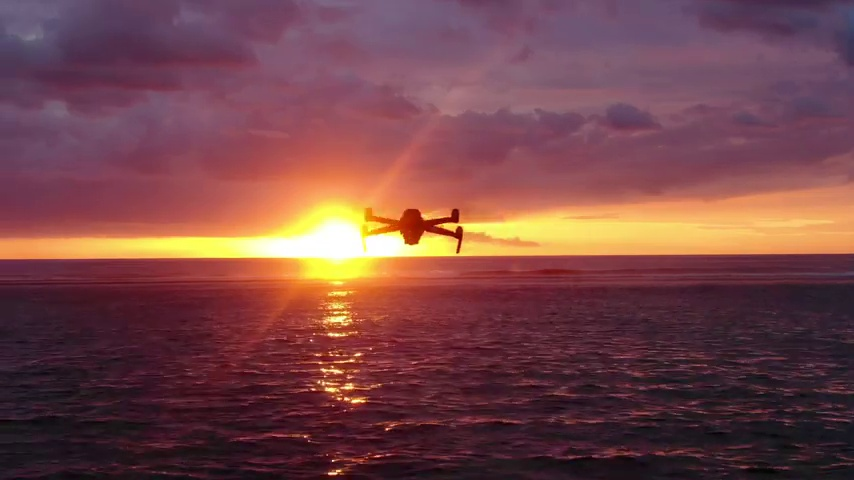drone: (360, 206, 463, 253)
